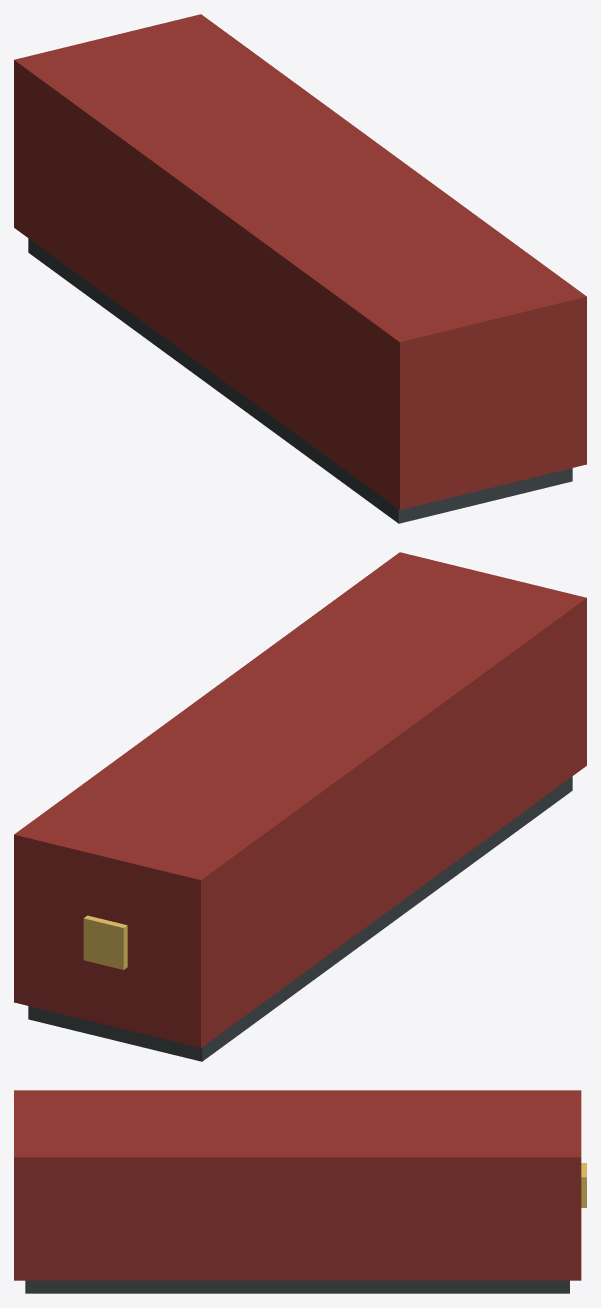
The model's file is wagon_probe_lod1.glb.
3 views of the same model, one above another, from view 1: azimuth 30°, elevation 25°; view 2: azimuth 150°, elevation 25°; view 3: azimuth 270°, elevation 25° (orthographic). The views are drawn at different scales.
Visible parts, largest first — view 1: RF_Wagon_Body, RF_Chassis; view 2: RF_Wagon_Body, RF_Chassis, RF_Forward; view 3: RF_Wagon_Body, RF_Chassis.
Part boxes in pixels (<box>): RF_Wagon_Body: <box>14,14,586,509</box>; RF_Chassis: <box>28,238,572,523</box>; RF_Wagon_Body: <box>14,552,586,1047</box>; RF_Chassis: <box>28,776,572,1061</box>; RF_Forward: <box>83,915,127,969</box>; RF_Wagon_Body: <box>14,1090,581,1280</box>; RF_Chassis: <box>25,1280,569,1293</box>.
Size of the model in its own units: 2.8 by 2.7 by 10.1.
